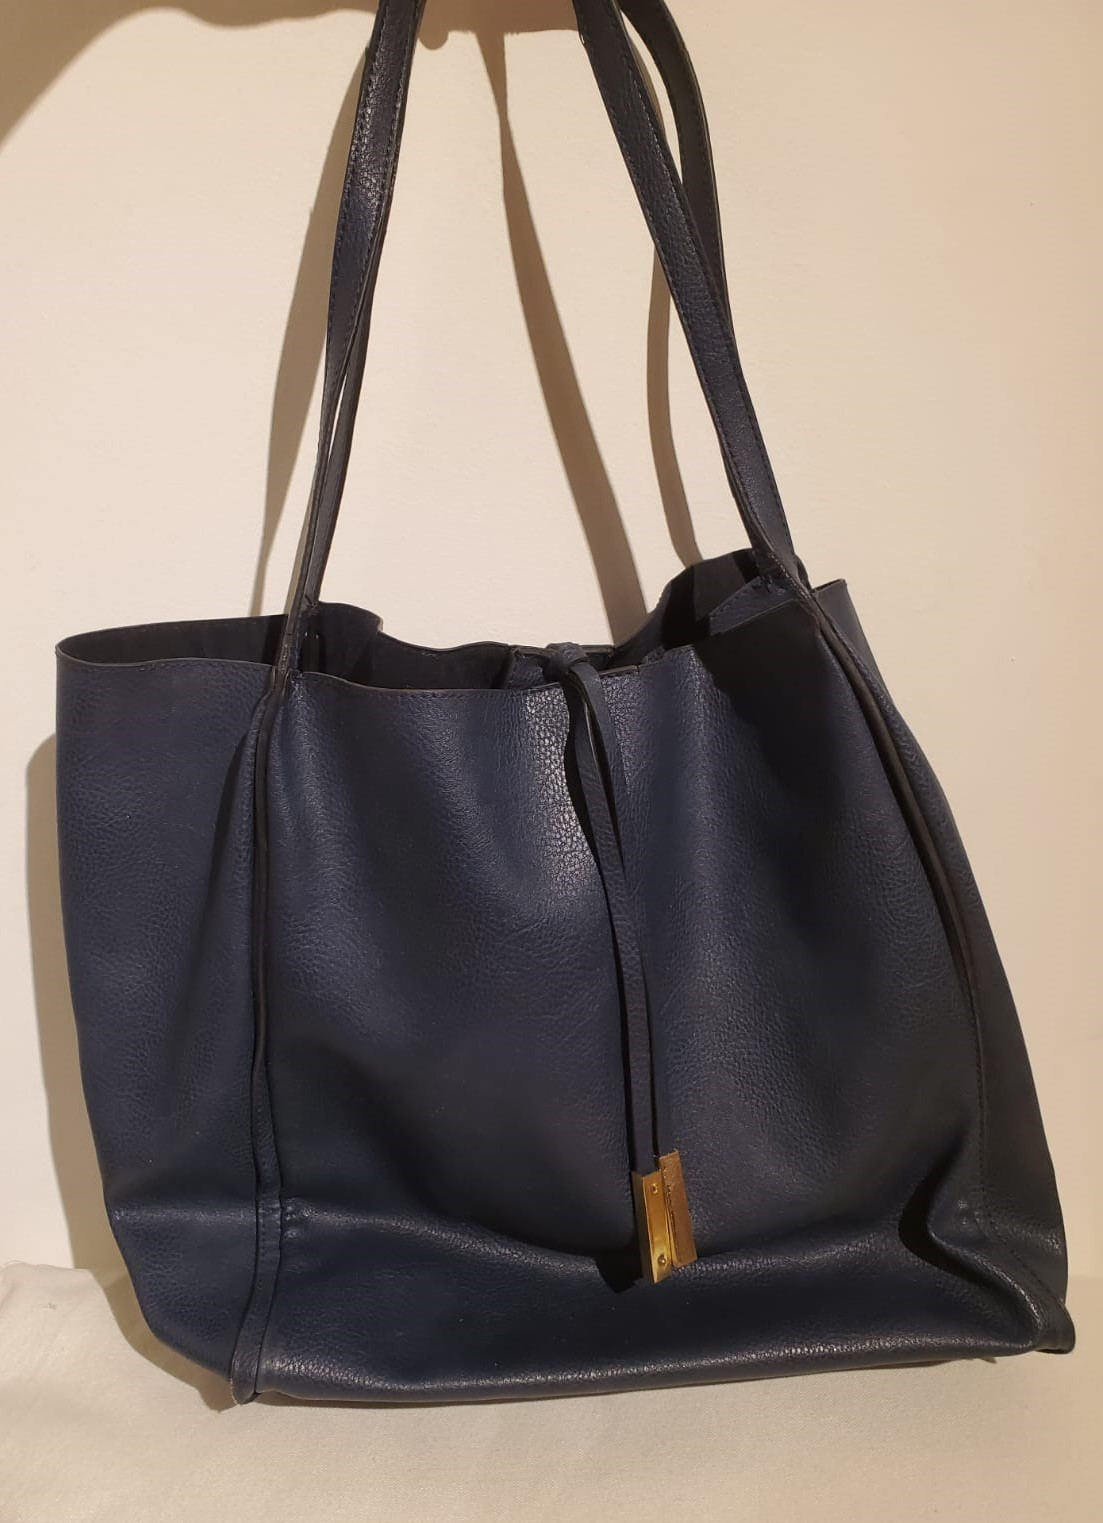cartera: (25, 2, 1091, 1391)
cuero: (156, 713, 871, 1335)
